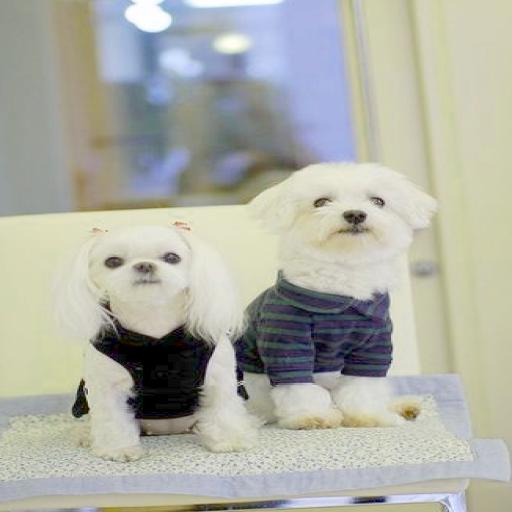dog_face: (67, 212, 236, 336), (253, 153, 438, 265)
